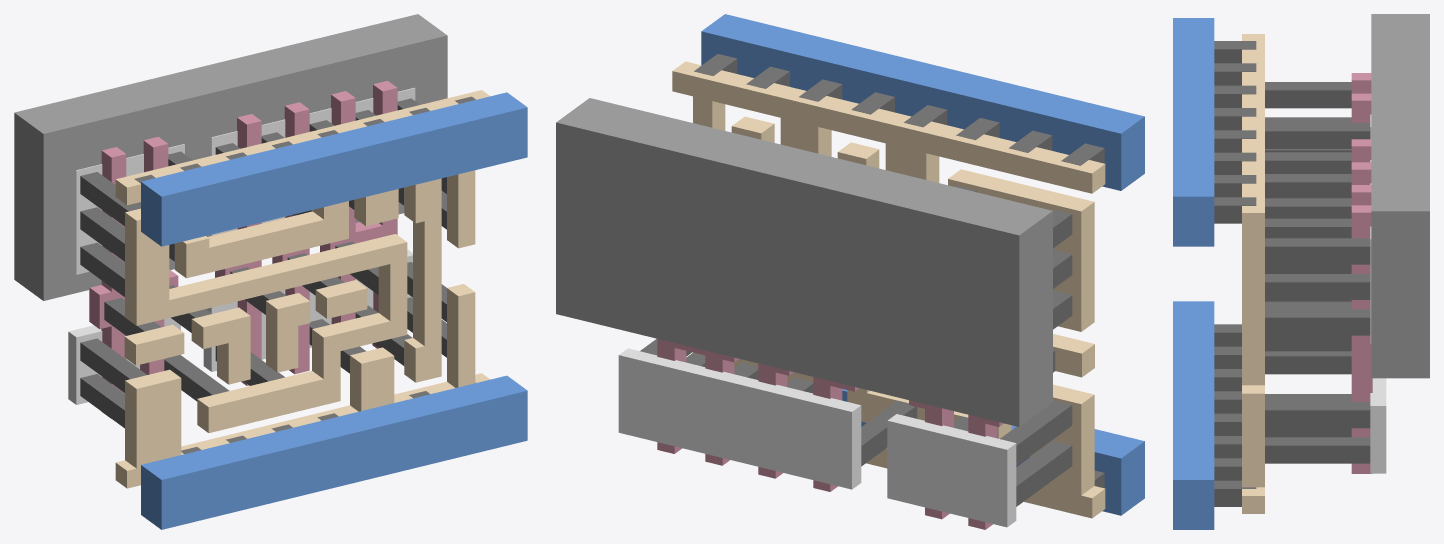
File: sky130_fd_sc_hd__a22o_2.gds.gltf
3 renders of one model, left to right at view 1: azimuth 30°, elevation 25°; view 2: azimuth 150°, elevation 25°; view 3: azimuth 270°, elevation 25°, orthographic. The views are drawn at different scales.
Visible parts, largest first — view 1: sky130_fd_sc_hd__a22o_2_li1, sky130_fd_sc_hd__a22o_2_met1, sky130_fd_sc_hd__a22o_2_nwell, sky130_fd_sc_hd__a22o_2_licon, sky130_fd_sc_hd__a22o_2_poly, sky130_fd_sc_hd__a22o_2_diff, sky130_fd_sc_hd__a22o_2_mcon; view 2: sky130_fd_sc_hd__a22o_2_nwell, sky130_fd_sc_hd__a22o_2_li1, sky130_fd_sc_hd__a22o_2_diff, sky130_fd_sc_hd__a22o_2_met1, sky130_fd_sc_hd__a22o_2_licon, sky130_fd_sc_hd__a22o_2_mcon, sky130_fd_sc_hd__a22o_2_poly; view 3: sky130_fd_sc_hd__a22o_2_licon, sky130_fd_sc_hd__a22o_2_nwell, sky130_fd_sc_hd__a22o_2_met1, sky130_fd_sc_hd__a22o_2_mcon, sky130_fd_sc_hd__a22o_2_li1, sky130_fd_sc_hd__a22o_2_poly, sky130_fd_sc_hd__a22o_2_diff.
Part boxes in pixels (box(x1,y1,x2,y2)): sky130_fd_sc_hd__a22o_2_li1: box(115, 90, 489, 488); sky130_fd_sc_hd__a22o_2_met1: box(141, 92, 527, 529); sky130_fd_sc_hd__a22o_2_nwell: box(14, 14, 447, 300); sky130_fd_sc_hd__a22o_2_licon: box(80, 98, 446, 428); sky130_fd_sc_hd__a22o_2_poly: box(89, 80, 397, 418); sky130_fd_sc_hd__a22o_2_diff: box(68, 87, 415, 404); sky130_fd_sc_hd__a22o_2_mcon: box(134, 96, 475, 453); sky130_fd_sc_hd__a22o_2_nwell: box(556, 98, 1052, 426); sky130_fd_sc_hd__a22o_2_li1: box(672, 61, 1105, 518); sky130_fd_sc_hd__a22o_2_diff: box(618, 348, 1016, 527); sky130_fd_sc_hd__a22o_2_met1: box(701, 14, 1144, 515); sky130_fd_sc_hd__a22o_2_licon: box(640, 186, 1072, 506); sky130_fd_sc_hd__a22o_2_mcon: box(694, 54, 1104, 488); sky130_fd_sc_hd__a22o_2_poly: box(657, 339, 1003, 529); sky130_fd_sc_hd__a22o_2_licon: box(1265, 82, 1370, 463); sky130_fd_sc_hd__a22o_2_nwell: box(1371, 14, 1429, 378); sky130_fd_sc_hd__a22o_2_met1: box(1173, 18, 1214, 529); sky130_fd_sc_hd__a22o_2_mcon: box(1214, 41, 1256, 506); sky130_fd_sc_hd__a22o_2_li1: box(1242, 34, 1264, 513); sky130_fd_sc_hd__a22o_2_poly: box(1351, 73, 1372, 473); sky130_fd_sc_hd__a22o_2_diff: box(1370, 114, 1386, 473).
Size of the model in its own units: 4.06 by 3.2 by 2.24.
